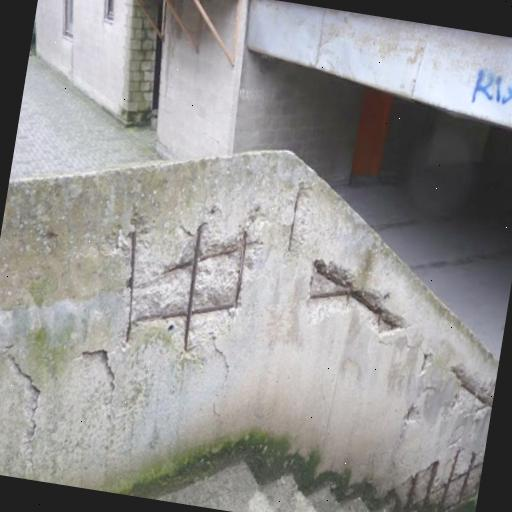spalling: (116, 215, 257, 359), (297, 252, 414, 341), (382, 436, 482, 512), (441, 358, 491, 413)
